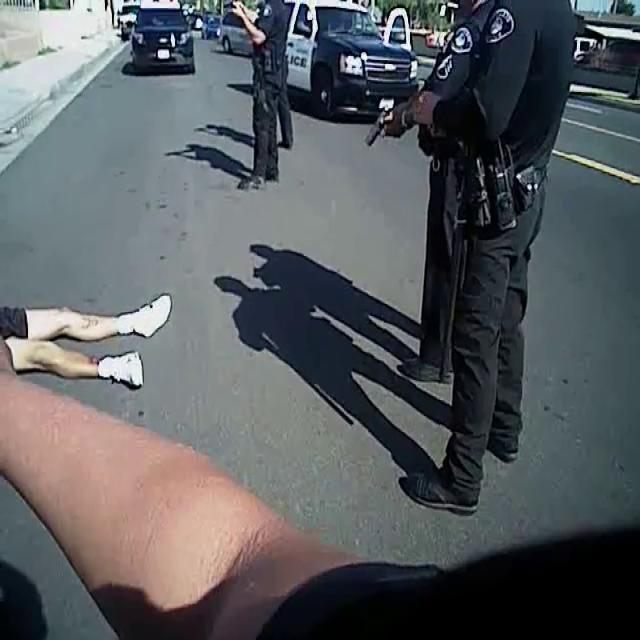gun: (356, 89, 402, 159), (222, 0, 245, 19)
